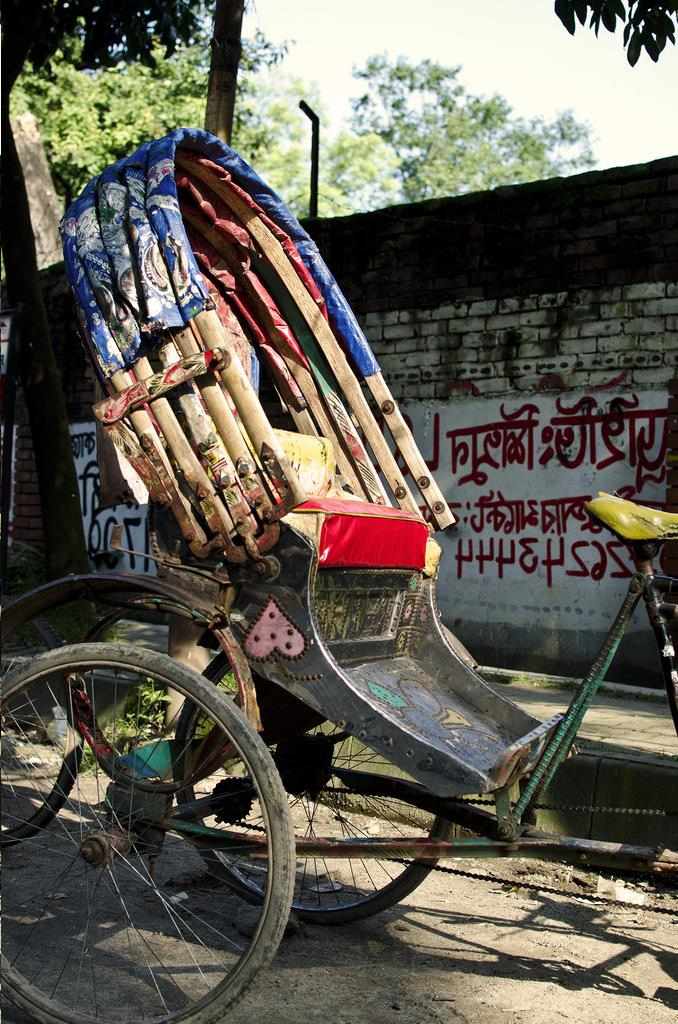Rickshaw: (3, 135, 677, 948)
